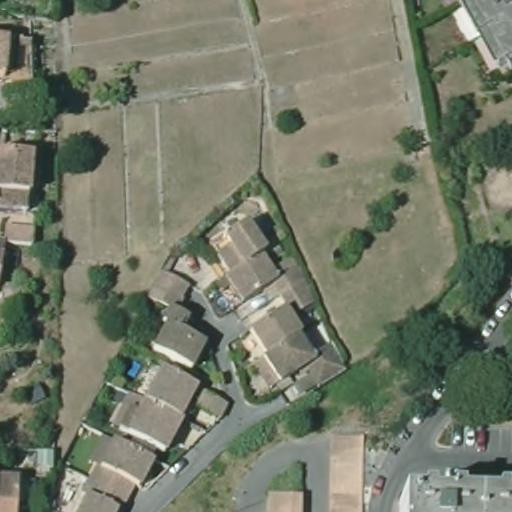pool: (121, 356, 141, 382)
